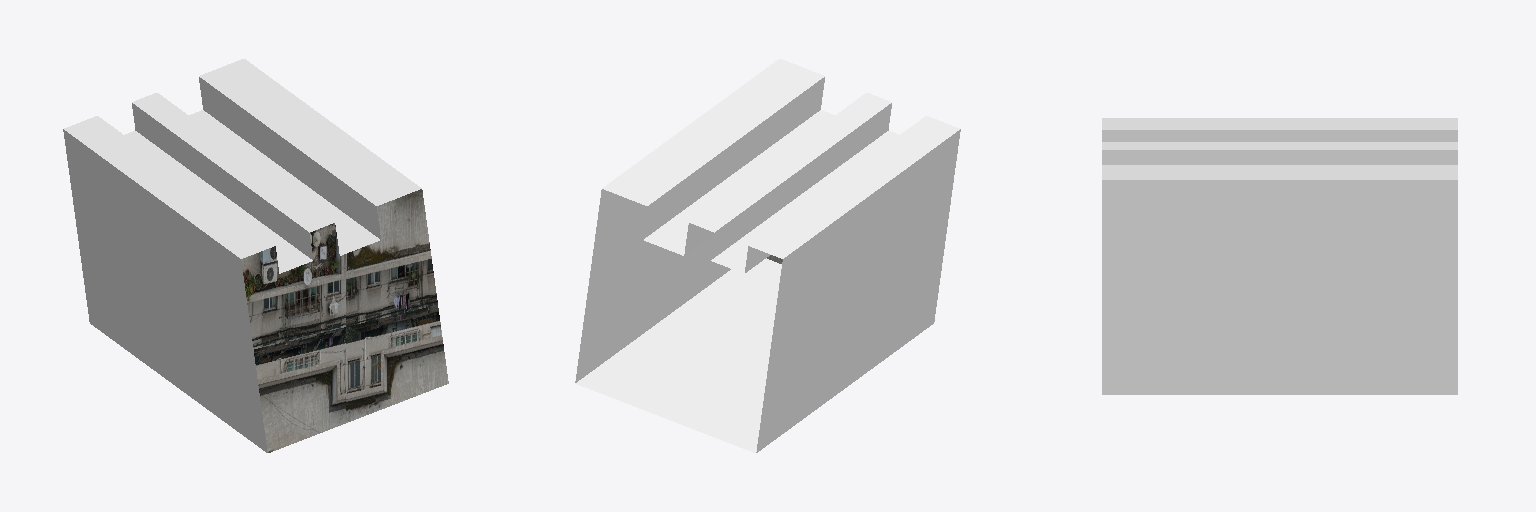
3 renders of one model, left to right at view 1: azimuth 30°, elevation 25°; view 2: azimuth 150°, elevation 25°; view 3: azimuth 270°, elevation 25°, orthographic.
Parts seen in each view (by area): view 1: Building; view 2: Building; view 3: Building.
Part boxes in pixels (x1,y1,x2,y2): Building: (63, 59, 448, 452); Building: (575, 59, 960, 452); Building: (1102, 118, 1457, 394).
Size of the model in its own units: 22.22 by 23.24 by 33.
2 materials, 1 textured.